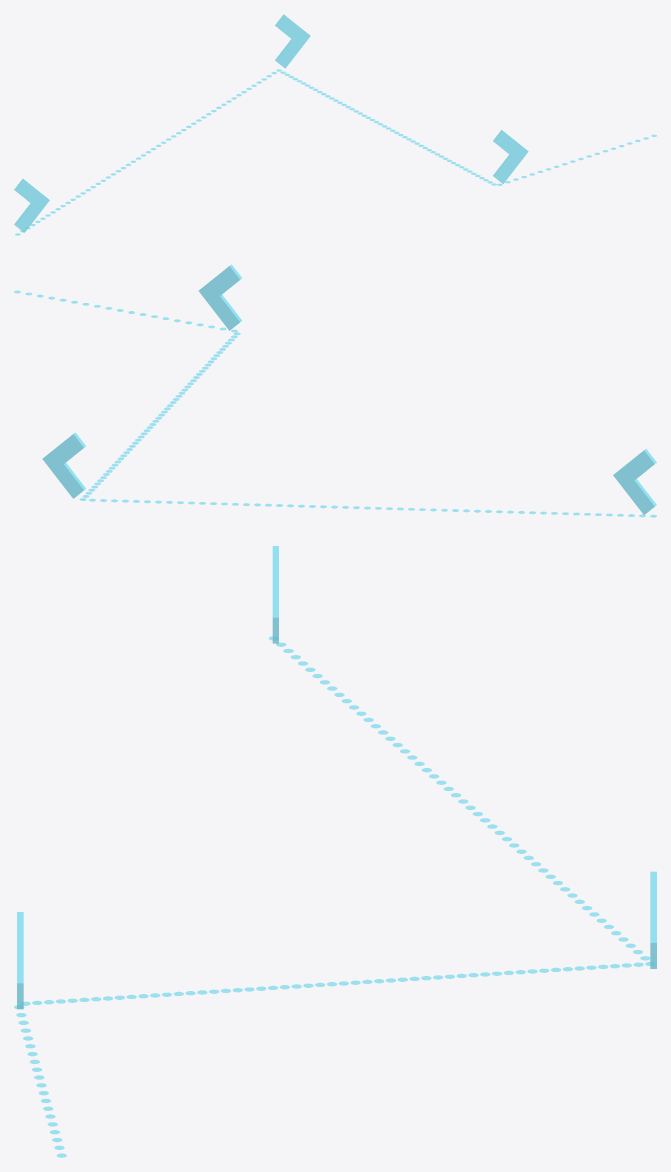
Rendered from pathandarrows.gltf.
The picture shows the model from 3 angles, top to bottom: view 1: azimuth 30°, elevation 25°; view 2: azimuth 150°, elevation 25°; view 3: azimuth 270°, elevation 25°; orthographic projection. The views are drawn at different scales.
Parts seen in each view (by area): view 1: mesh_1 (×3); view 2: mesh_1 (×3); view 3: no part large enough to name.
Boxes of the visible parts, <box> form: mesh_1 (×3): <box>14,14,528,232</box>; mesh_1 (×3): <box>42,264,656,514</box>.
Bounding box in the file's own units: 9.37 × 0.8207 × 4.88.
